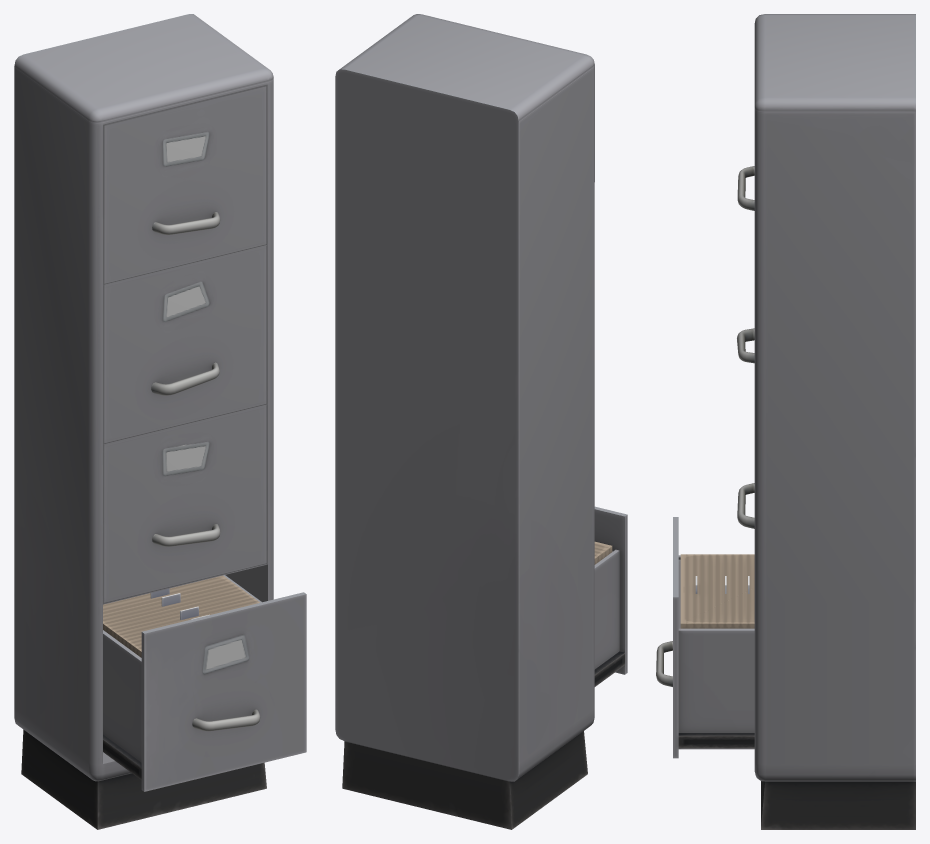
Rendered from OfficeFileCabinet01_2.FBX.
3 renders of one model, left to right at view 1: azimuth 30°, elevation 25°; view 2: azimuth 150°, elevation 25°; view 3: azimuth 270°, elevation 25°, orthographic.
Visible parts, largest first — view 1: OfficeFileCabinet01_2; view 2: OfficeFileCabinet01_2; view 3: OfficeFileCabinet01_2.
Boxes of the visible parts, x1,y1,x2,y2 form: OfficeFileCabinet01_2: (14,14,306,829); OfficeFileCabinet01_2: (335,14,627,829); OfficeFileCabinet01_2: (656,14,915,829).
Size of what is drawn, in the model's own units: 0.44 by 1.65 by 0.5312.
